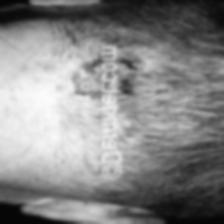Toxin: (69, 52, 97, 97), (30, 60, 65, 92)
